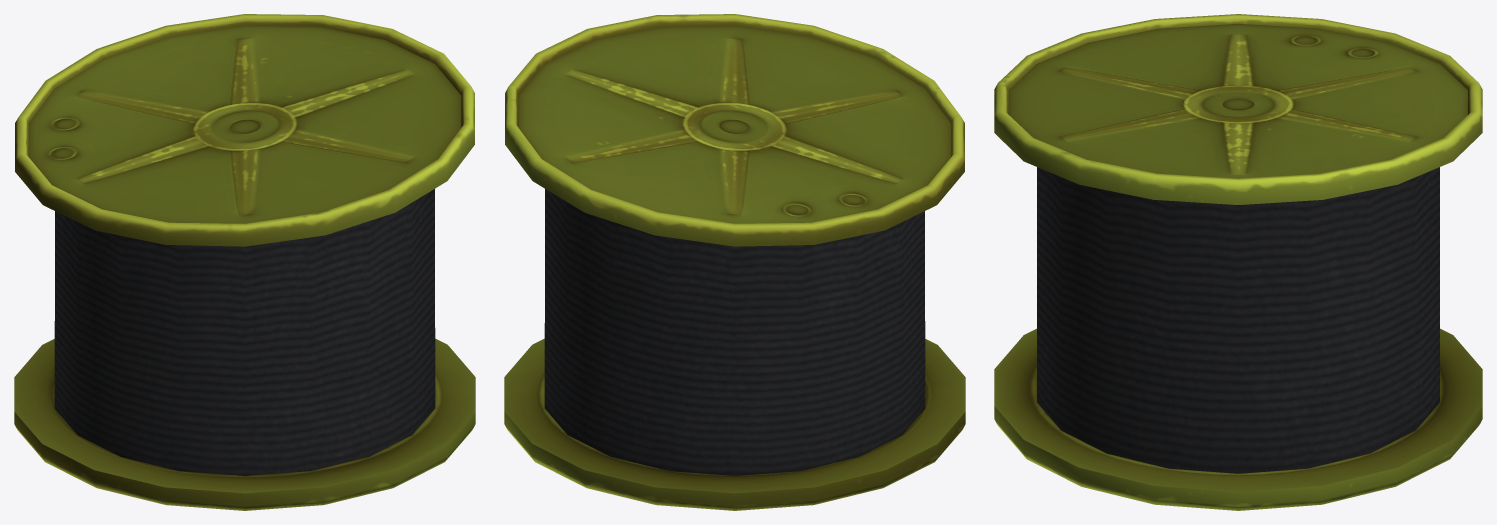
File: CableReel01_2.FBX
3 views of the same model, side by side, from view 1: azimuth 30°, elevation 25°; view 2: azimuth 150°, elevation 25°; view 3: azimuth 270°, elevation 25° (orthographic). The views are drawn at different scales.
Visible parts, largest first — view 1: CableReel01_2; view 2: CableReel01_2; view 3: CableReel01_2.
Boxes of the visible parts, left/top/right/bottom form: CableReel01_2: left=14, top=14, right=475, bottom=510; CableReel01_2: left=504, top=14, right=965, bottom=510; CableReel01_2: left=994, top=14, right=1482, bottom=510.
Size of what is drawn, in the model's own units: 1.5 by 1.1 by 1.48.
